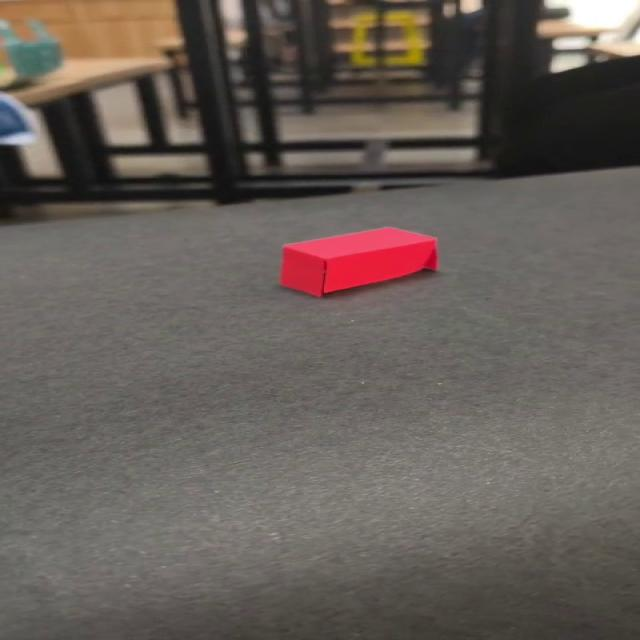red block: (278, 225, 438, 297)
